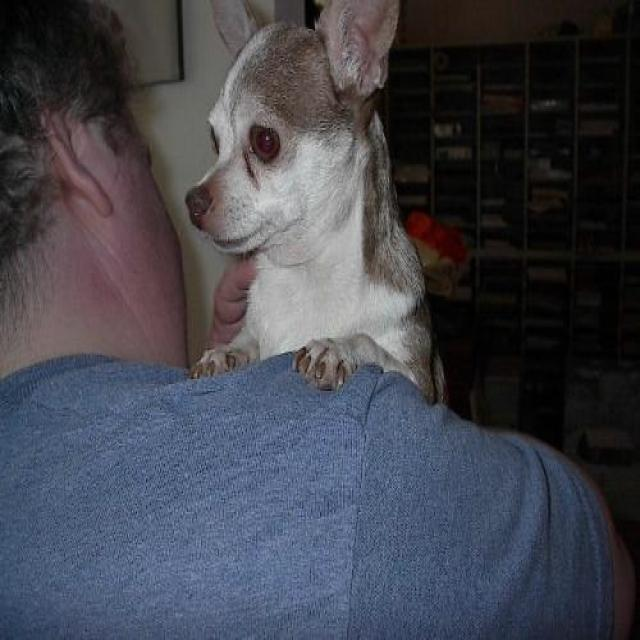chihuahua: (187, 0, 448, 408)
